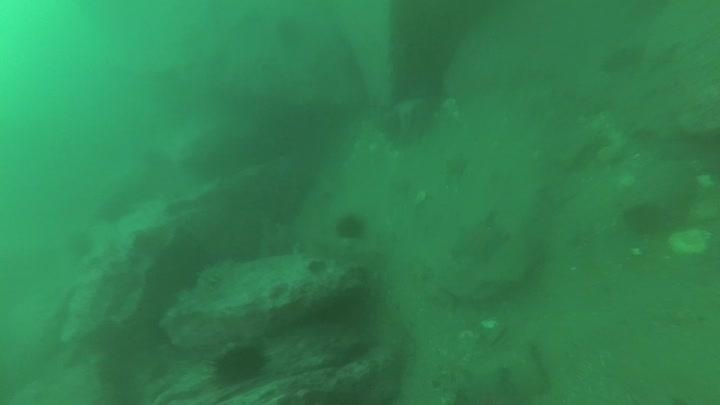echinus: (209, 341, 269, 388), (621, 199, 669, 239), (273, 13, 308, 50), (332, 211, 369, 243)
holothurian: (192, 258, 231, 300)
starfish: (453, 356, 551, 405), (450, 211, 512, 267), (441, 152, 472, 181)
